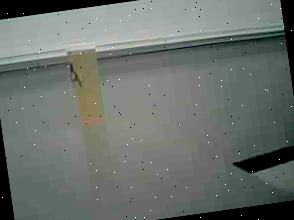Bottle A: (54, 28, 123, 144)
